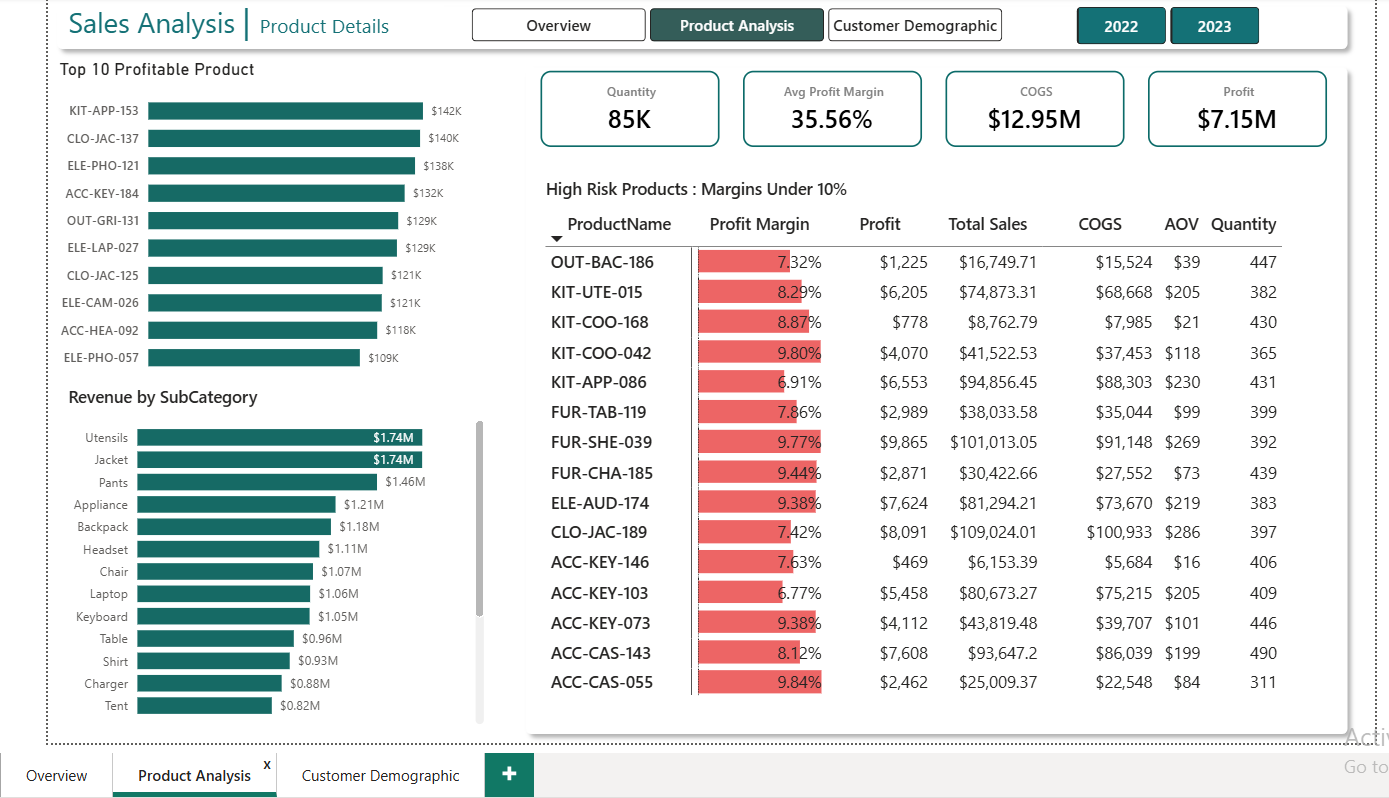

Layout of this report page (visuals, bound fields, positions):
{"tool":"powerbi","page":{"name":"Product Analysis","canvas":[1280,720],"ordinal":1},"visuals":[{"type":"shape","box":[0,0,1263.1,59.1],"z":0},{"type":"shape","box":[452.4,59.1,810.7,661.1],"z":1000},{"type":"shape","box":[0,59.1,444,661.1],"z":2000},{"type":"pivotTable","title":"High Risk Products : Margins Under 10%","fields":{"Values":["Measures (2).Profit Margin","Measures (2).Profit","Measures (2).TotalSales","Measures (2).COGS","Measures (2).AOV","Sum(FactSales.Quantity)"],"Rows":["DimProduct.ProductName"]},"box":[475.3,171.3,774.5,535.7],"z":3000},{"type":"barChart","title":"Top 10 Profitable Product","fields":{"Y":["Measures (2).Profit"],"Category":["FactSales.Product"]},"box":[6,59.1,419.8,313.7],"z":4000},{"type":"textbox","box":[14.5,0,368,45.8],"z":5000},{"type":"pageNavigator","box":[409,11.4,513.9,32.6],"z":6000},{"type":"clusteredBarChart","fields":{"Category":["DimProduct.SubCategory"],"Y":["Measures (2).TotalSales"]},"box":[14.5,374,411.4,333],"z":7000},{"type":"advancedSlicerVisual","fields":{"Values":["Clendar.Year"]},"box":[987.8,7.5,186.4,40.3],"z":8000},{"type":"card","title":"Quantity","fields":{"Values":["Measures (2).Total Quantity"]},"box":[475.3,71.2,172.5,73.6],"z":9000},{"type":"card","title":"Avg Profit Margin","fields":{"Values":["Measures (2).Profit Margin"]},"box":[670.8,71.2,172.5,73.6],"z":10000},{"type":"card","title":"COGS","fields":{"Values":["Measures (2).COGS"]},"box":[866.2,71.2,172.5,73.6],"z":11000},{"type":"card","title":"Profit","fields":{"Values":["Measures (2).Profit"]},"box":[1061.7,71.2,172.5,73.6],"z":12000}]}

Visuals, with their boxes on the page's 1280x720 design canvas (x1, y1, x2, y2). These are canvas units, not pixel positions in the 1389x798 screenshot, which may show the page scaled, cropped or inside an application window:
shape: detection(0, 0, 1263, 59)
shape: detection(452, 59, 1263, 720)
shape: detection(0, 59, 444, 720)
"High Risk Products : Margins Under 10%" pivotTable: detection(475, 171, 1250, 707)
"Top 10 Profitable Product" barChart: detection(6, 59, 426, 373)
textbox: detection(14, 0, 382, 46)
pageNavigator: detection(409, 11, 923, 44)
clusteredBarChart - DimProduct.SubCategory x Measures (2).TotalSales: detection(14, 374, 426, 707)
advancedSlicerVisual - Clendar.Year: detection(988, 8, 1174, 48)
"Quantity" card: detection(475, 71, 648, 145)
"Avg Profit Margin" card: detection(671, 71, 843, 145)
"COGS" card: detection(866, 71, 1039, 145)
"Profit" card: detection(1062, 71, 1234, 145)
